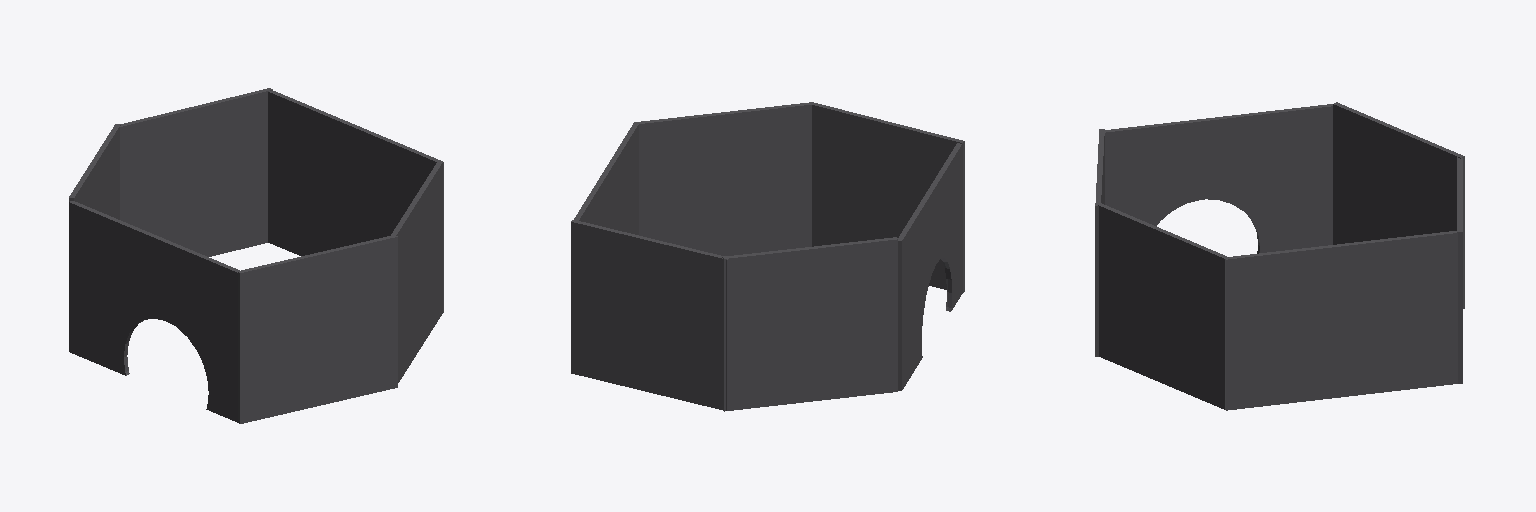
File: main.obj
3 renders of one model, left to right at view 1: azimuth 30°, elevation 25°; view 2: azimuth 150°, elevation 25°; view 3: azimuth 270°, elevation 25°, orthographic.
Visible parts, largest first — view 1: Part2, Union1, Part3, Part1, Part5, Part4; view 2: Part4, Part3, Part5, Part2, Union1, Part1; view 3: Part1, Union1, Part5, Part4, Part3, Part2.
Boxes of the visible parts, <box> form: Part2: <box>237,236,397,423</box>; Union1: <box>69,201,239,422</box>; Part3: <box>120,88,272,256</box>; Part1: <box>268,91,443,312</box>; Part5: <box>391,162,442,382</box>; Part4: <box>69,124,120,219</box>; Part4: <box>722,237,897,411</box>; Part3: <box>571,220,727,410</box>; Part5: <box>636,102,811,255</box>; Part2: <box>811,102,964,292</box>; Union1: <box>898,143,962,390</box>; Part1: <box>574,122,638,234</box>; Part1: <box>1226,231,1457,410</box>; Union1: <box>1105,104,1332,253</box>; Part5: <box>1098,203,1228,409</box>; Part4: <box>1333,102,1464,308</box>; Part3: <box>1457,157,1462,383</box>; Part2: <box>1095,129,1104,356</box>.
Bounding box in the file's own units: 265 × 120 × 264.